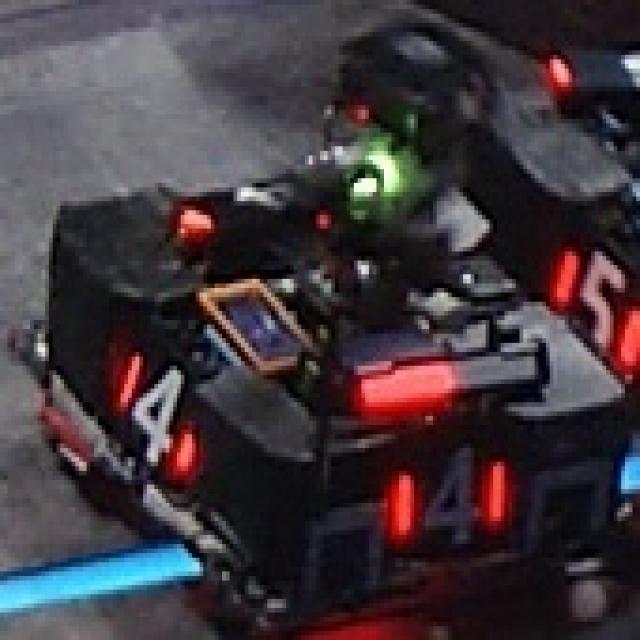R4: (372, 430, 520, 553), (96, 338, 190, 489)
R5: (538, 233, 640, 380)
